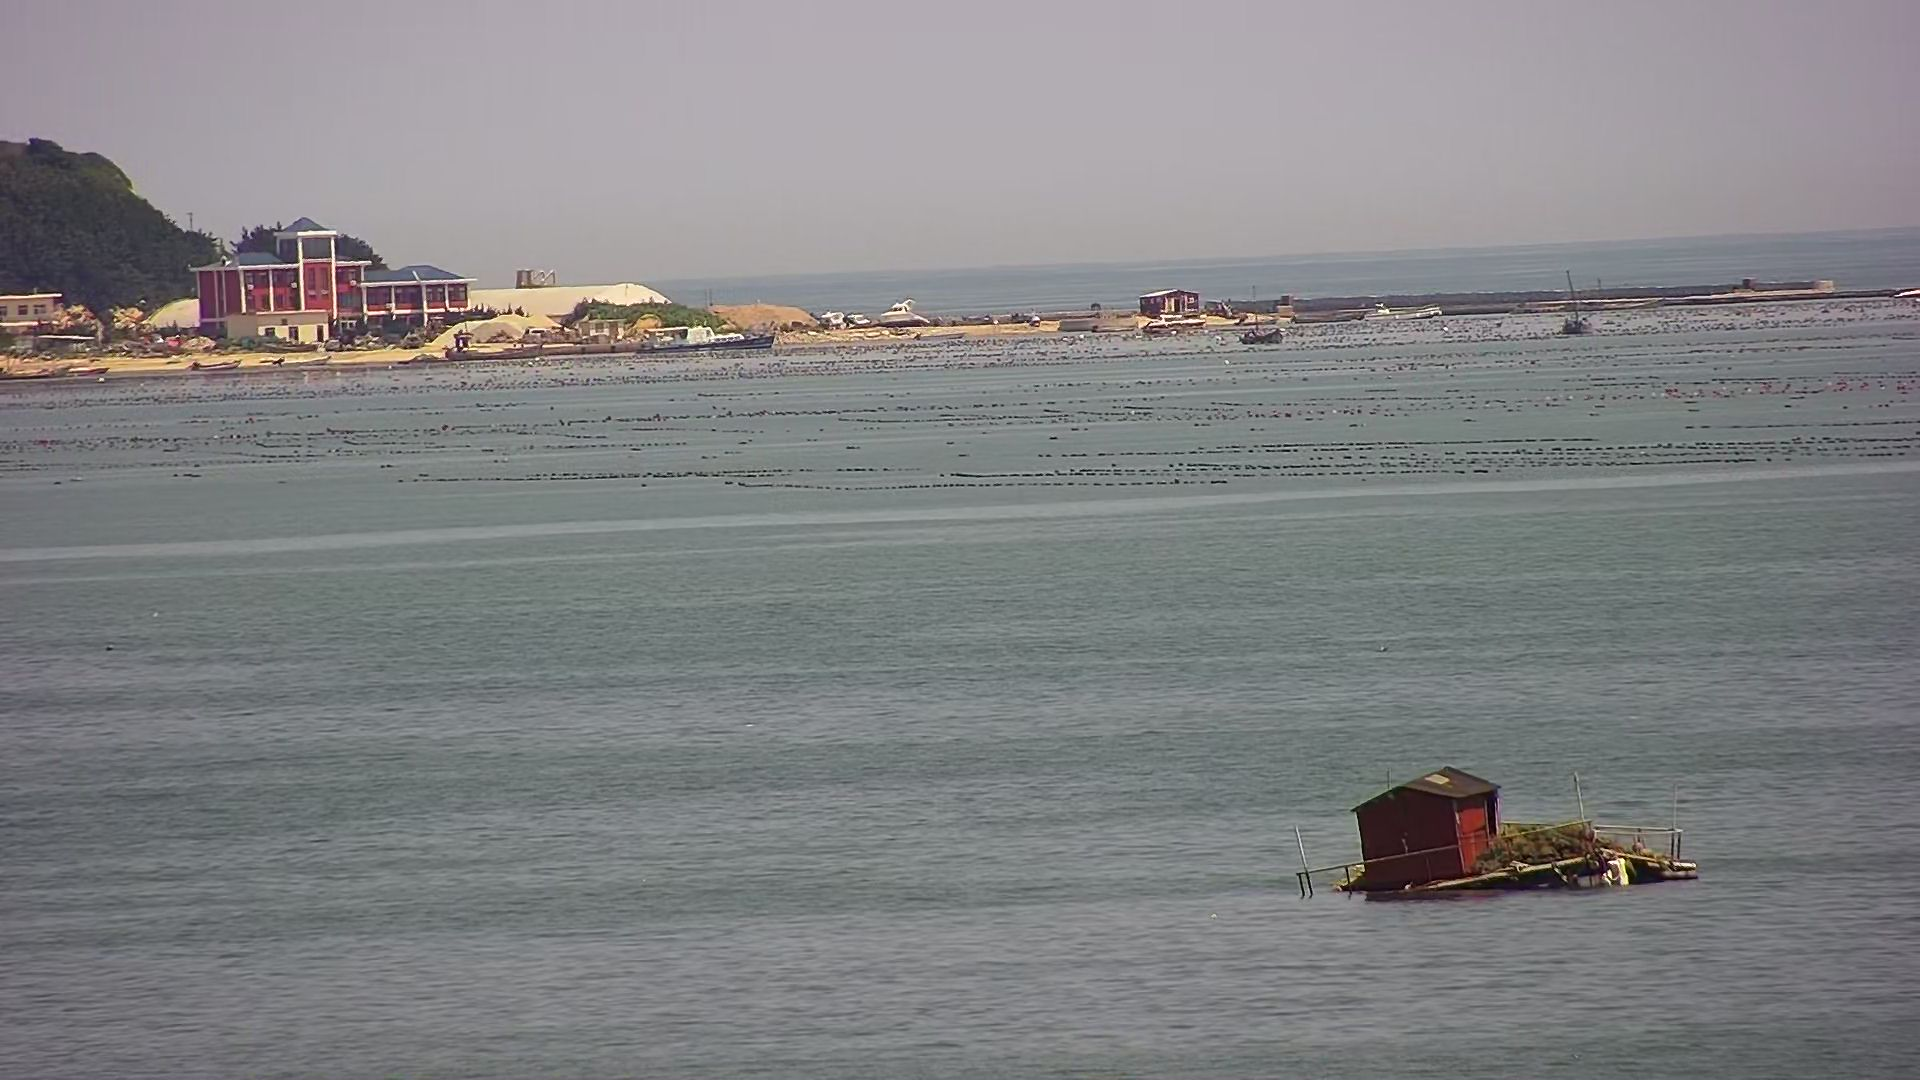boat: (1553, 261, 1600, 342), (1237, 289, 1286, 352)
platform: (1294, 764, 1701, 899)
